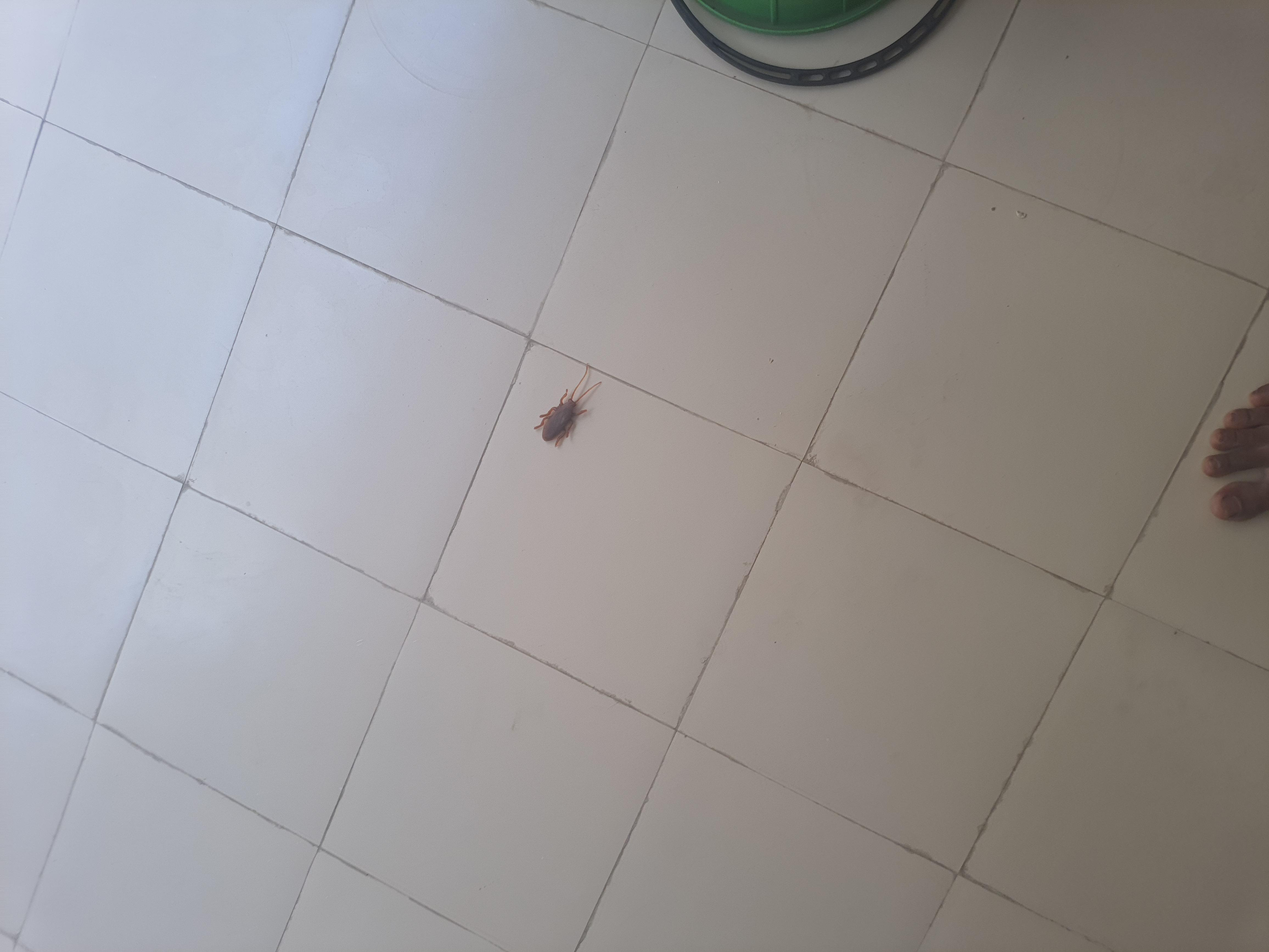cockroach: (656, 392, 752, 451)
